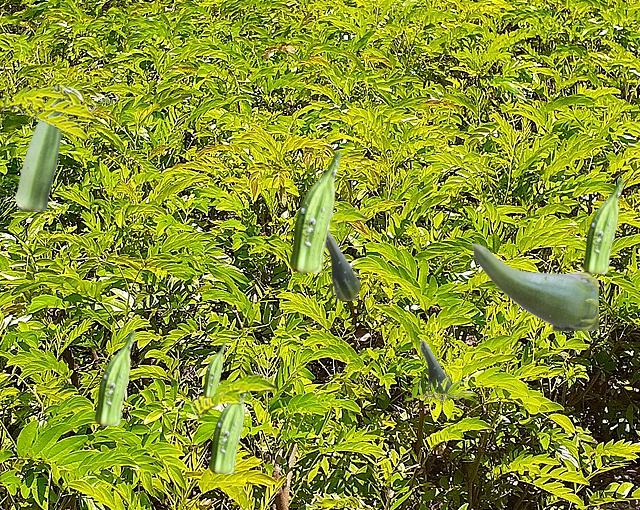okra: (471, 243, 597, 329), (290, 151, 340, 271), (15, 100, 61, 210), (583, 178, 622, 272), (95, 330, 134, 424), (209, 394, 246, 472), (326, 232, 358, 299), (419, 338, 449, 391), (203, 342, 224, 396)
